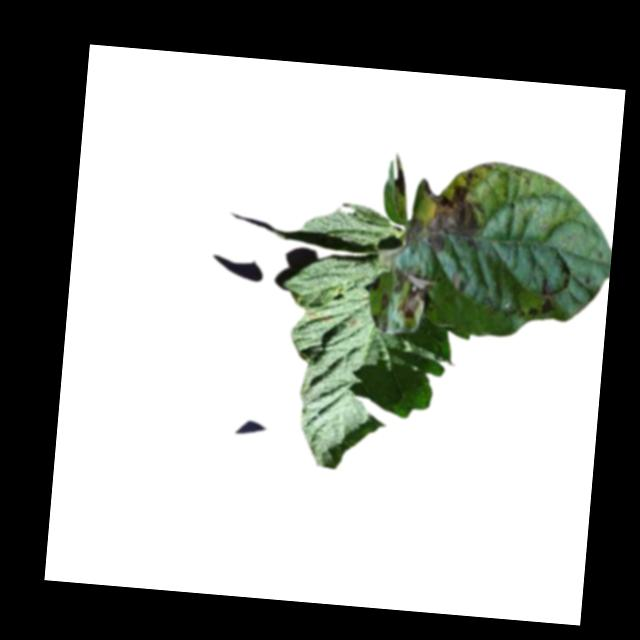Early_blight: (406, 168, 485, 257), (391, 265, 440, 323), (537, 274, 560, 315), (306, 310, 333, 328), (363, 275, 383, 293), (375, 292, 392, 312)
